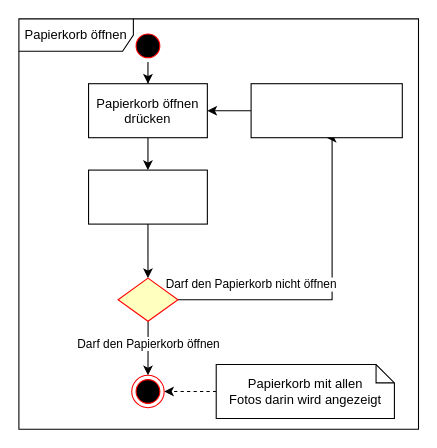
This 437x448 diagram has some shape labels left out. Here are the shapes that lost their labels. From the top down, the box of each, then its label:
(250, 83, 402, 138): Fehlermeldung anzeigen
(87, 169, 207, 224): Token/Benutzer validieren
